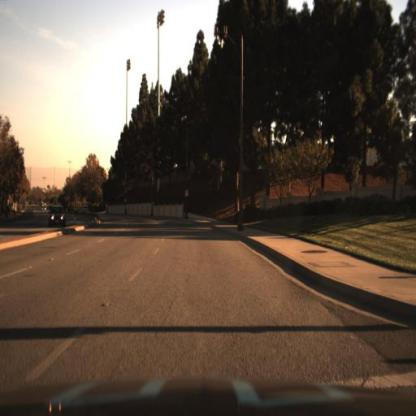car: (50, 206, 66, 228), (80, 203, 90, 215)
